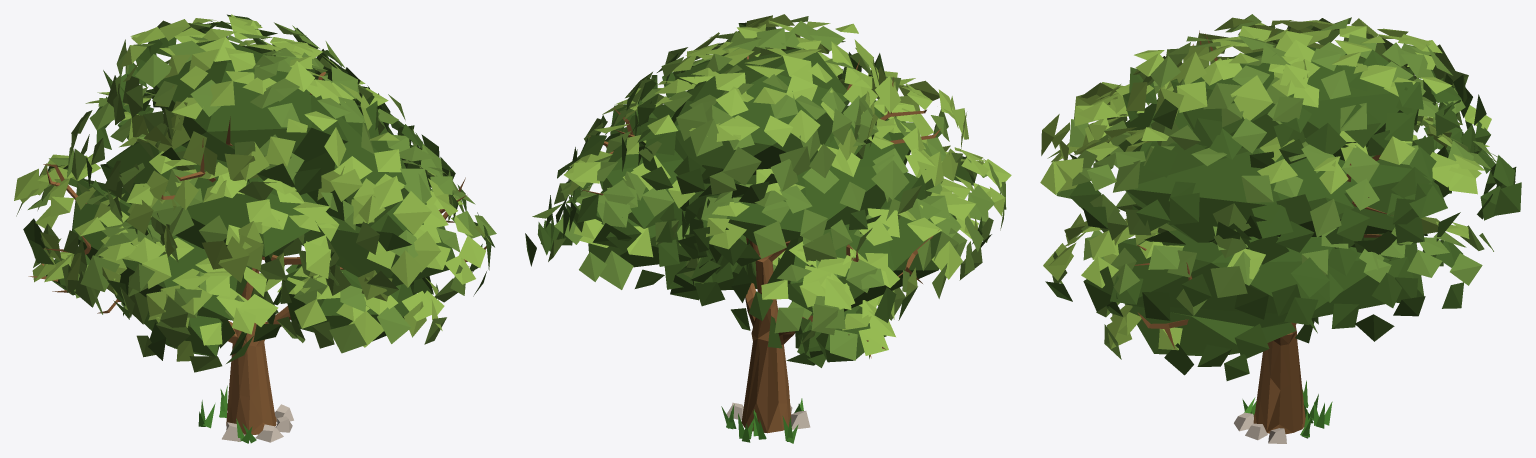
The model's file is elm_3_bloom.glb.
3 views of the same model, side by side, from view 1: azimuth 30°, elevation 25°; view 2: azimuth 150°, elevation 25°; view 3: azimuth 270°, elevation 25° (orthographic). The views are drawn at different scales.
Visible parts, largest first — view 1: elm_3_bloom; view 2: elm_3_bloom; view 3: elm_3_bloom.
Part boxes in pixels (x1,y1,x2,y2): elm_3_bloom: (14,14,496,443); elm_3_bloom: (525,14,1011,443); elm_3_bloom: (1040,14,1521,443).
Bounding box in the file's own units: 6.78 × 6.51 × 7.22.
